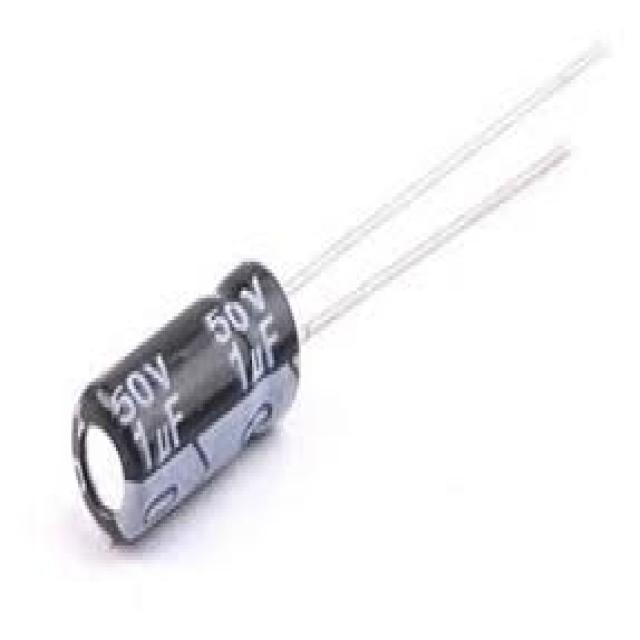Capacitor: (67, 36, 615, 549)
